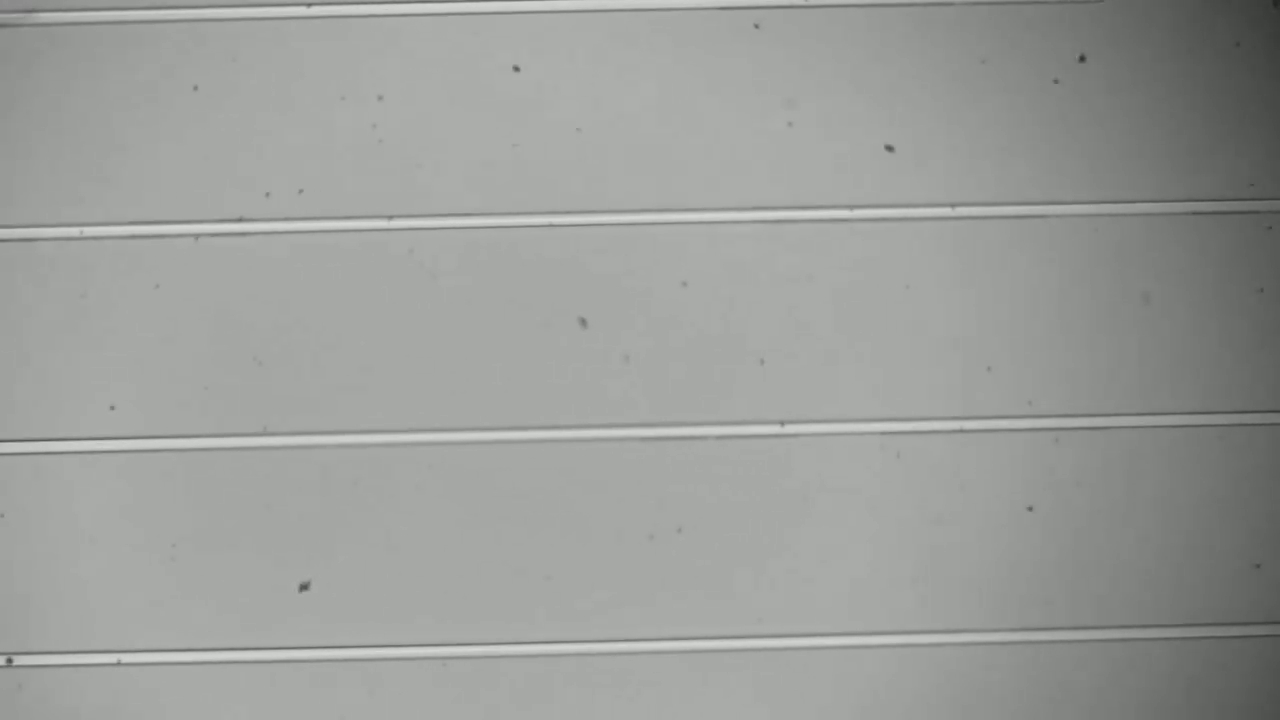stains_enbedded: (1, 647, 24, 673)
